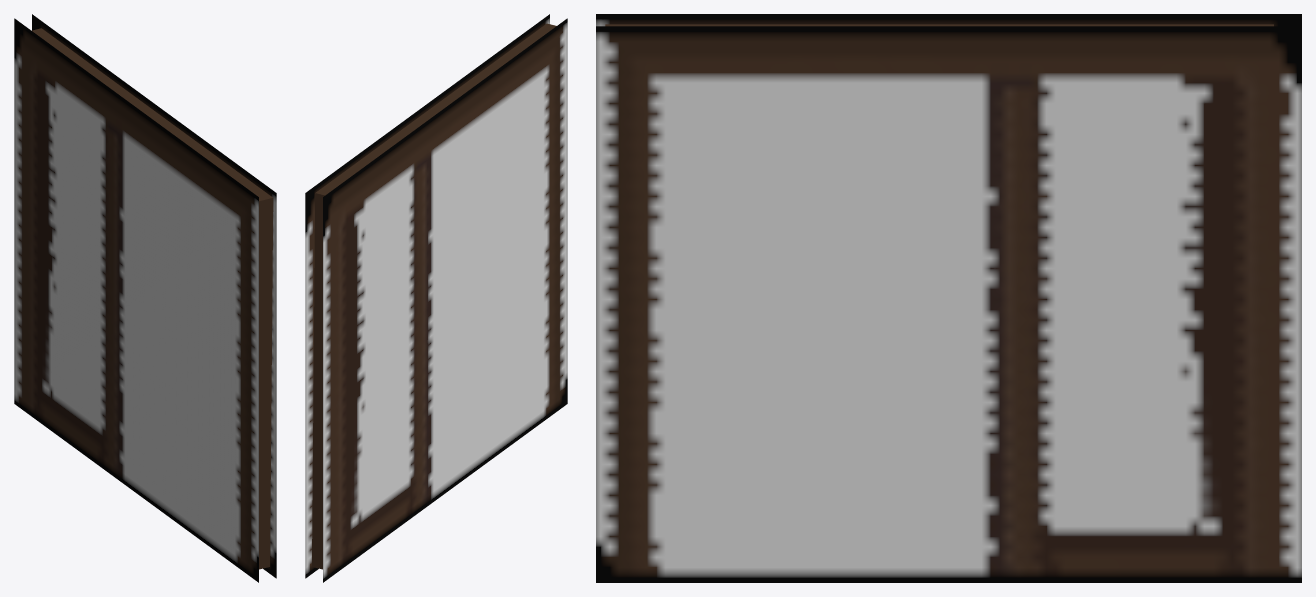
File: pz_native_fixtures_windows_01_68_frame.obj
3 renders of one model, left to right at view 1: azimuth 30°, elevation 25°; view 2: azimuth 150°, elevation 25°; view 3: azimuth 270°, elevation 25°, orthographic. The views are drawn at different scales.
Parts seen in each view (by area): view 1: pz_native_fixtures_windows_01_68_frame; view 2: pz_native_fixtures_windows_01_68_frame; view 3: pz_native_fixtures_windows_01_68_frame.
Part boxes in pixels (left/top/right/bottom): pz_native_fixtures_windows_01_68_frame: left=14, top=14, right=276, bottom=582; pz_native_fixtures_windows_01_68_frame: left=305, top=14, right=567, bottom=582; pz_native_fixtures_windows_01_68_frame: left=596, top=14, right=1301, bottom=582.
Bounding box in the file's own units: 0.04 × 0.8438 × 0.9696.
Materials: 1 (1 with a texture image).
